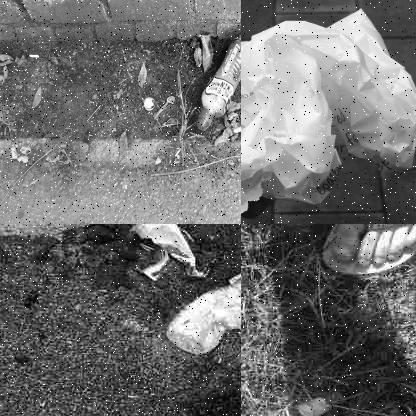glass: (241, 389, 343, 415)
plastic: (241, 13, 415, 223), (171, 270, 240, 351), (197, 30, 240, 131), (134, 224, 204, 279)
